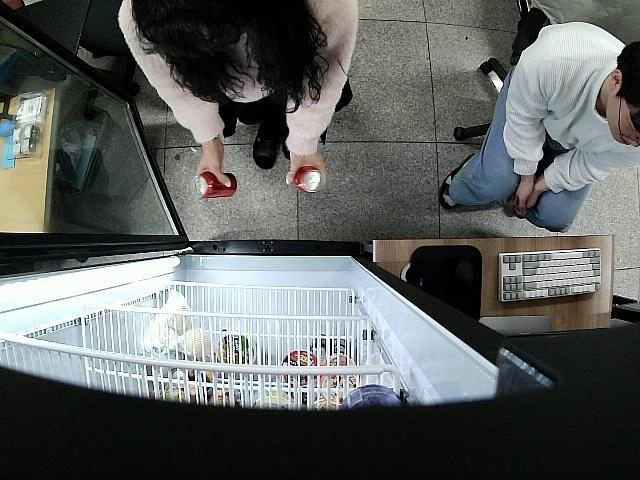11_cocaColaZero: (192, 172, 238, 200), (284, 168, 322, 194)
